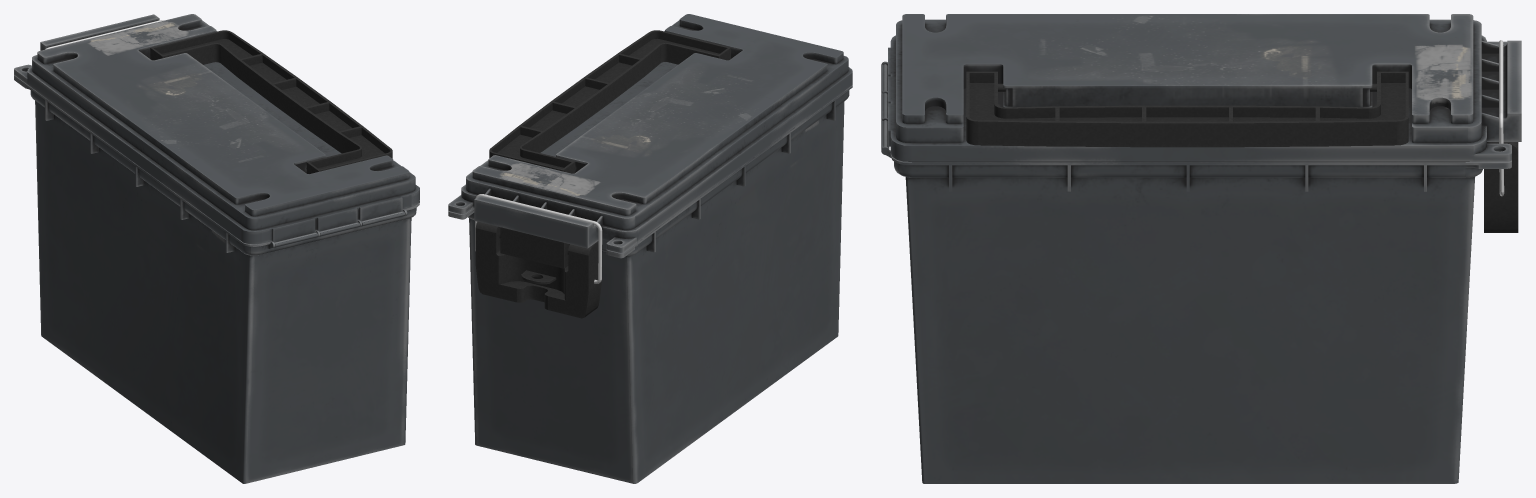
File: SM_AmmoCase_02.fbx
3 renders of one model, left to right at view 1: azimuth 30°, elevation 25°; view 2: azimuth 150°, elevation 25°; view 3: azimuth 270°, elevation 25°, orthographic. The views are drawn at different scales.
Parts seen in each view (by area): view 1: SM_AmmoCase_02_LOD0; view 2: SM_AmmoCase_02_LOD0; view 3: SM_AmmoCase_02_LOD0.
Part boxes in pixels (box(x1,y1,x2,y2)): SM_AmmoCase_02_LOD0: box(14, 14, 419, 483); SM_AmmoCase_02_LOD0: box(448, 14, 852, 483); SM_AmmoCase_02_LOD0: box(881, 14, 1521, 483).
Size of the model in its own units: 12.35 by 29.13 by 18.41.
Materials: 1 (1 with a texture image).
